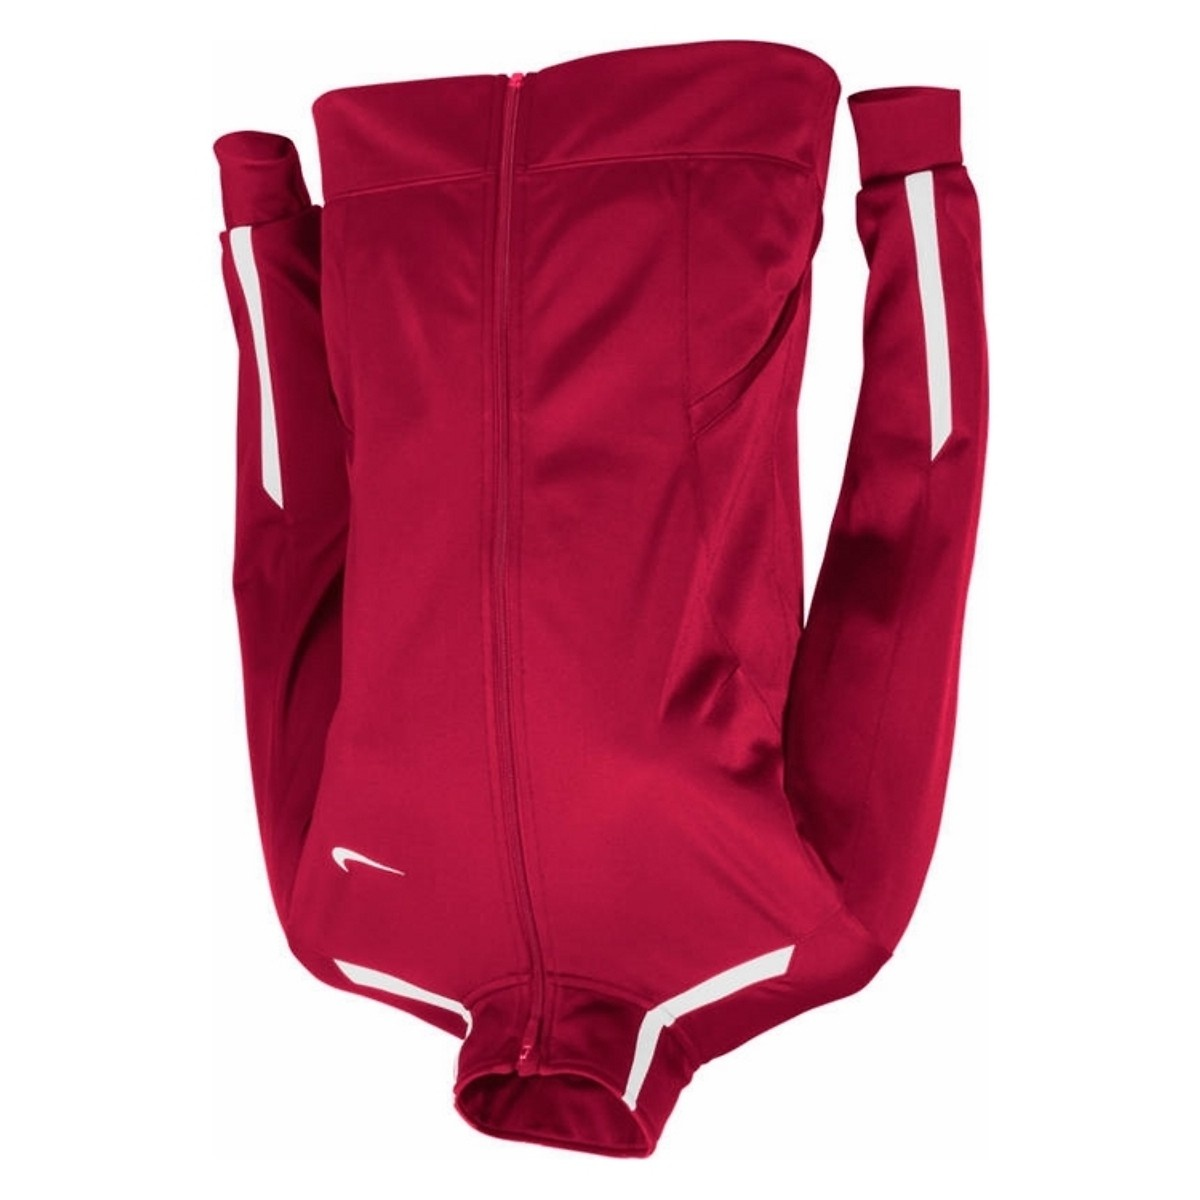Nike: (279, 713, 551, 935)
